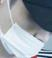mask_weared_incorrect: (1, 1, 52, 58)
